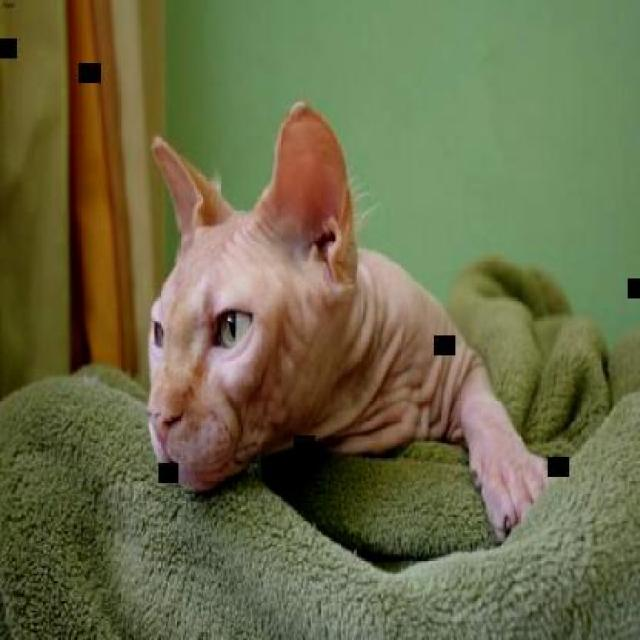cat: (146, 101, 554, 544)
